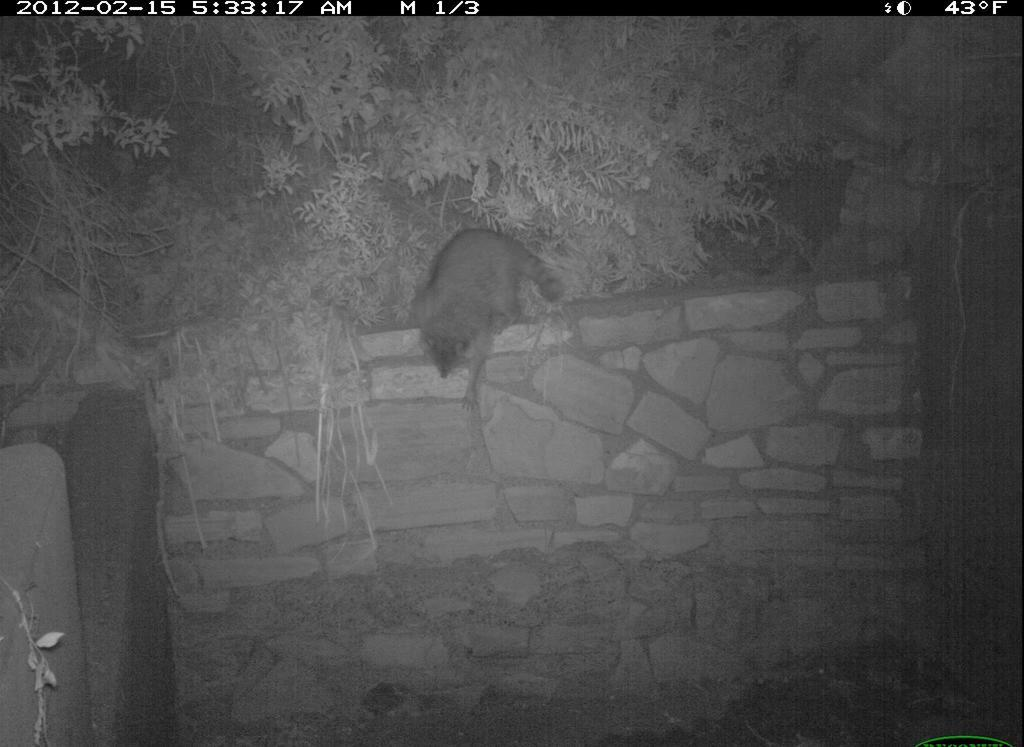raccoon: (388, 203, 589, 387)
